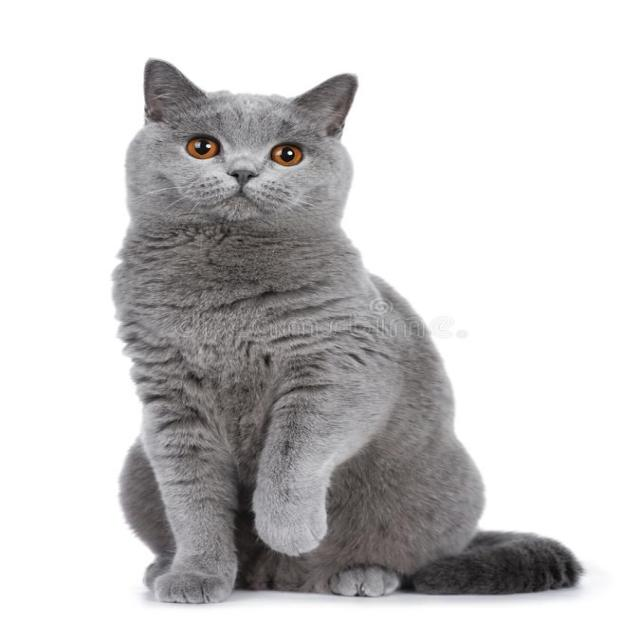british shorthair: (14, 35, 628, 640)
